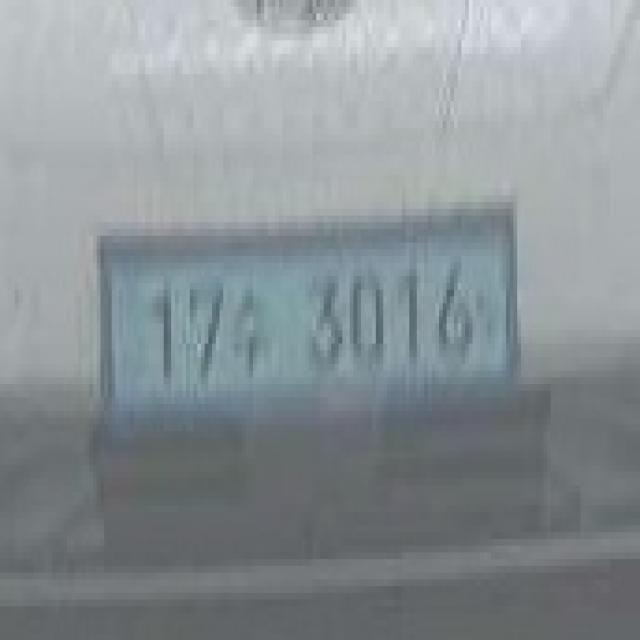0: (350, 256, 390, 377)
1: (142, 263, 182, 397), (394, 256, 428, 377)
3: (301, 256, 346, 377)
6: (432, 256, 480, 371)
7: (182, 270, 227, 404)
license_plate: (82, 195, 525, 438)
su: (227, 276, 275, 391)
